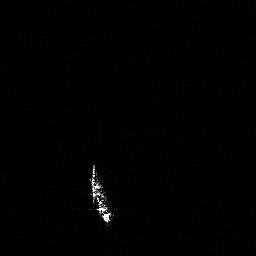ship: (85, 160, 117, 226)
